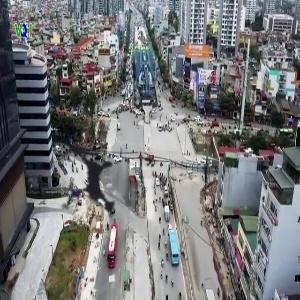drone: (22, 117, 156, 251)
